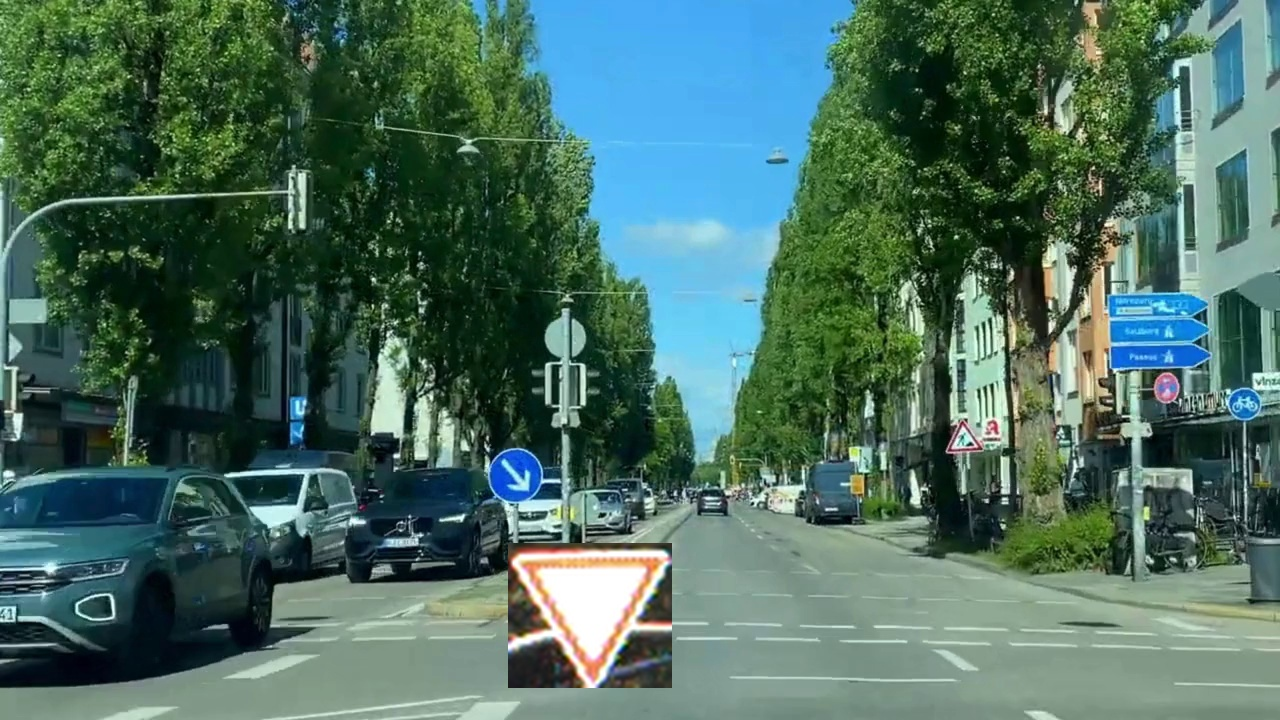Yield: (508, 543, 672, 688)
